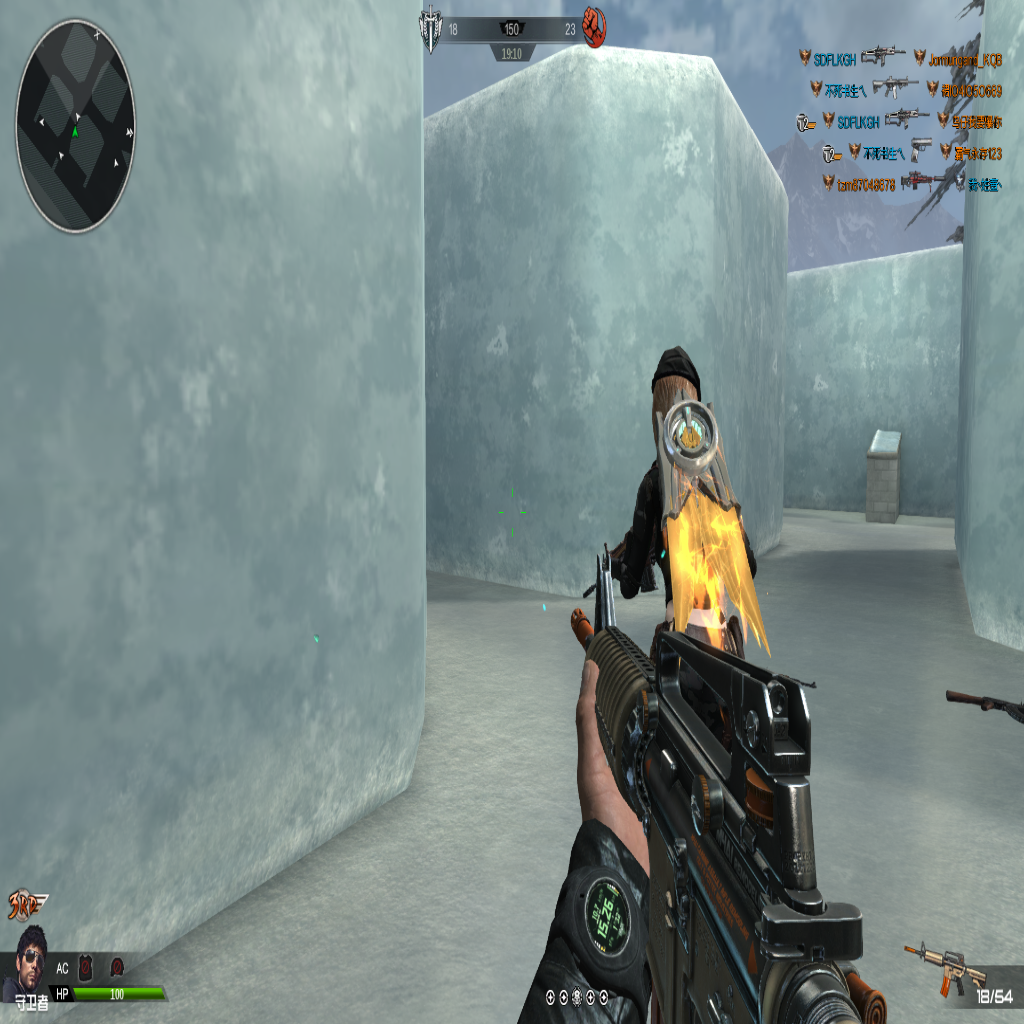ct: (616, 343, 758, 613)
